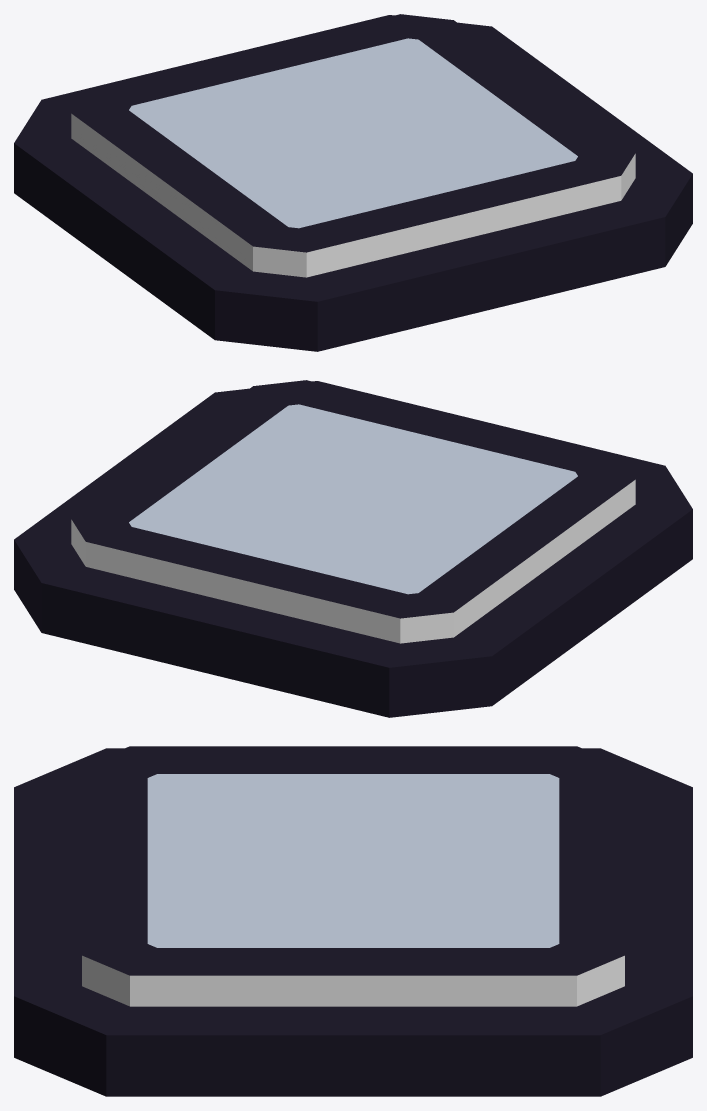
Rendered from Launcher.fbx.
3 views of the same model, one above another, from view 1: azimuth 30°, elevation 25°; view 2: azimuth 150°, elevation 25°; view 3: azimuth 270°, elevation 25° (orthographic). The views are drawn at different scales.
Parts seen in each view (by area): view 1: Cube; view 2: Cube; view 3: Cube.
Part boxes in pixels (left/top/right/bottom): Cube: left=14, top=14, right=692, bottom=351; Cube: left=14, top=380, right=692, bottom=717; Cube: left=14, top=746, right=692, bottom=1096.
Bounding box in the file's own units: 200 × 30 × 200.
